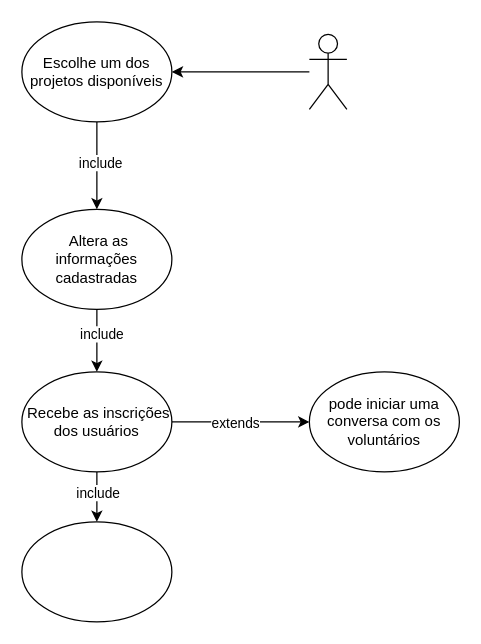
Some shapes in this 481 by 644 pixel diagram are drawn without their labels. Here are the shapes that lost their labels. From the top down, the centre of each, then its label:
point (327, 71): ONG
point (96, 571): decide quais voluntários atuarão no Projeto Social
